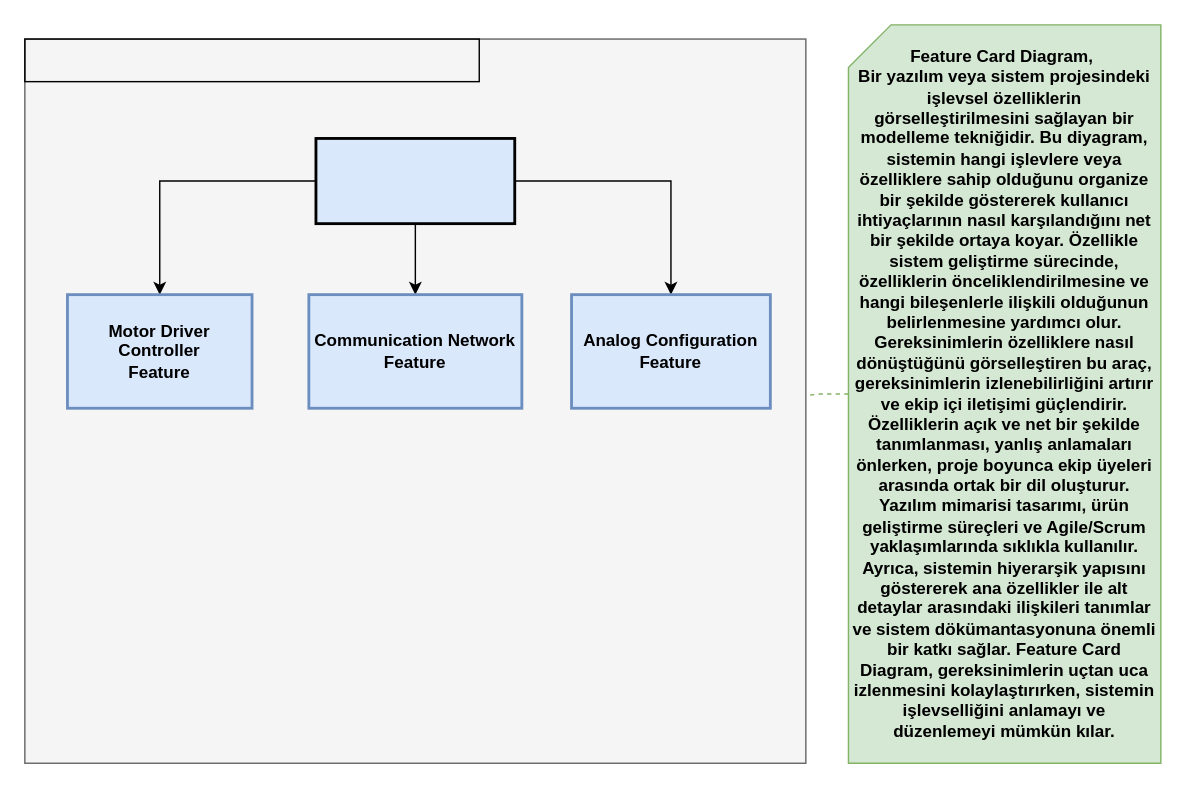
Some shapes in this 1186 by 788 pixel diagram are drawn without their labels. The shapes that lost their labels are listed below. From the top down, each one's box as (x1, y1, x2, y2) in pixels, then its label:
(23, 38, 479, 82): EMobil Motordriver Project Middleware Feature Cards
(314, 136, 515, 224): ECUStateManager Feature
